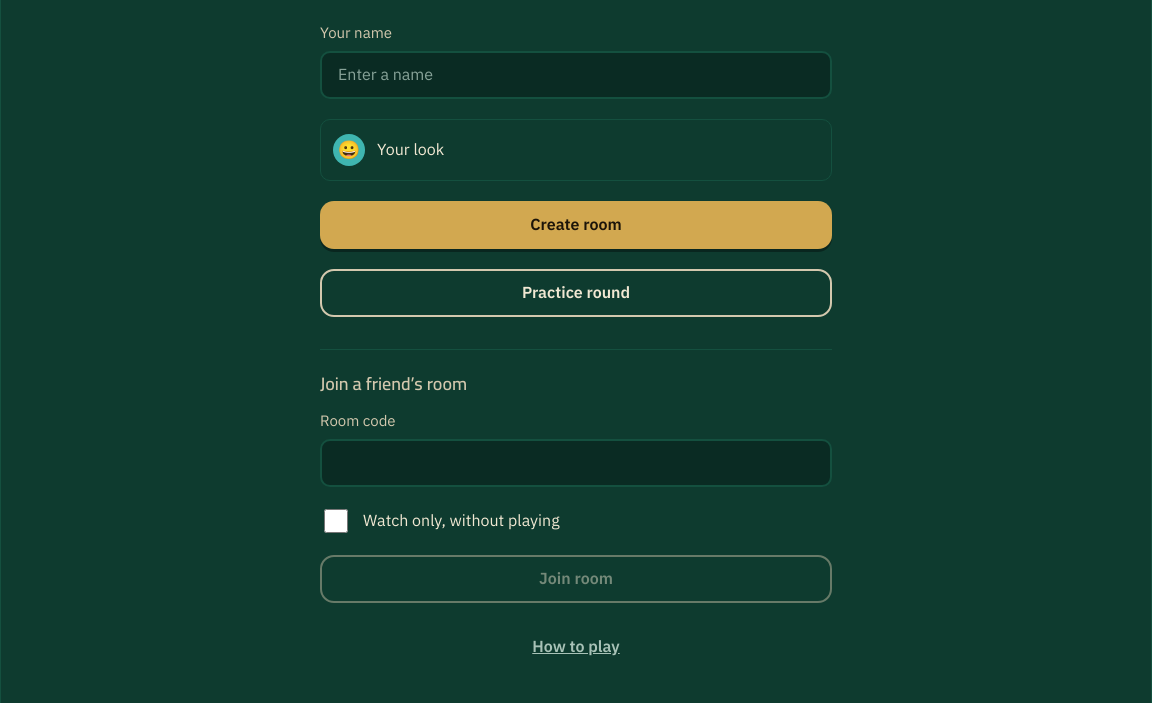
Scenario: tutorial › closes with the Escape key and starts again from step one
The image size is (1152, 703).
(page scrolled)
Click the button "How to play".
click(576, 647)  # box [320,623,832,671]
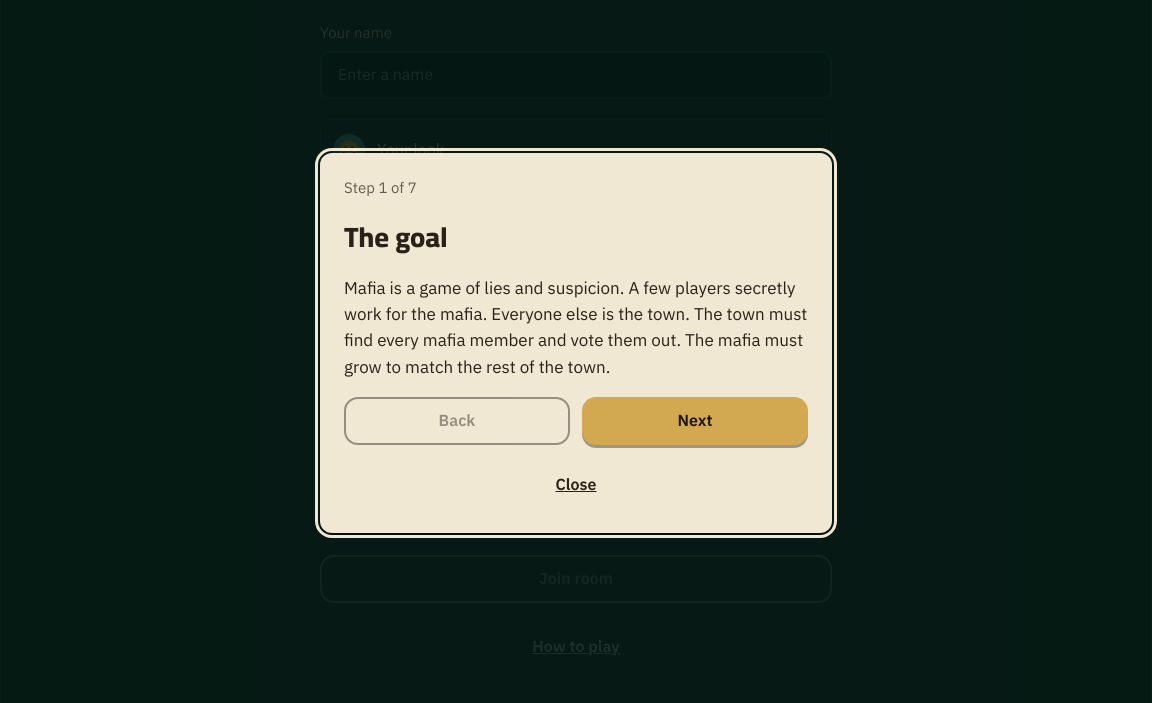
Click the button "Next".
click(695, 421)  # box [582,397,808,445]
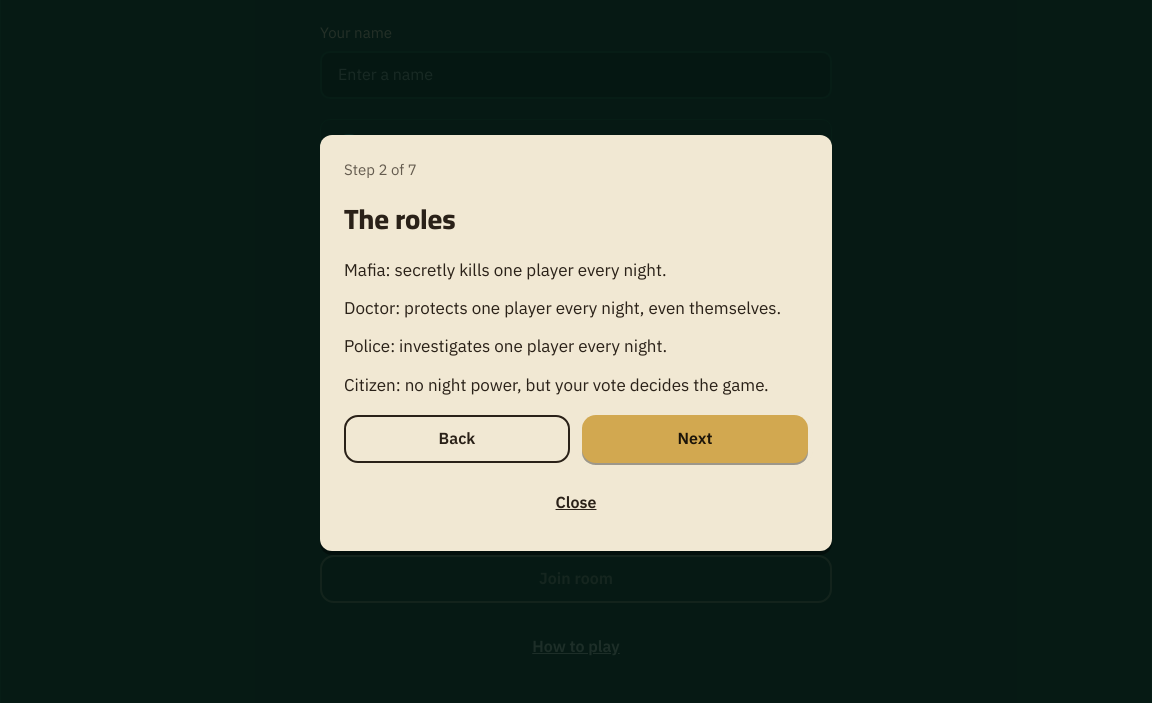
Press Escape
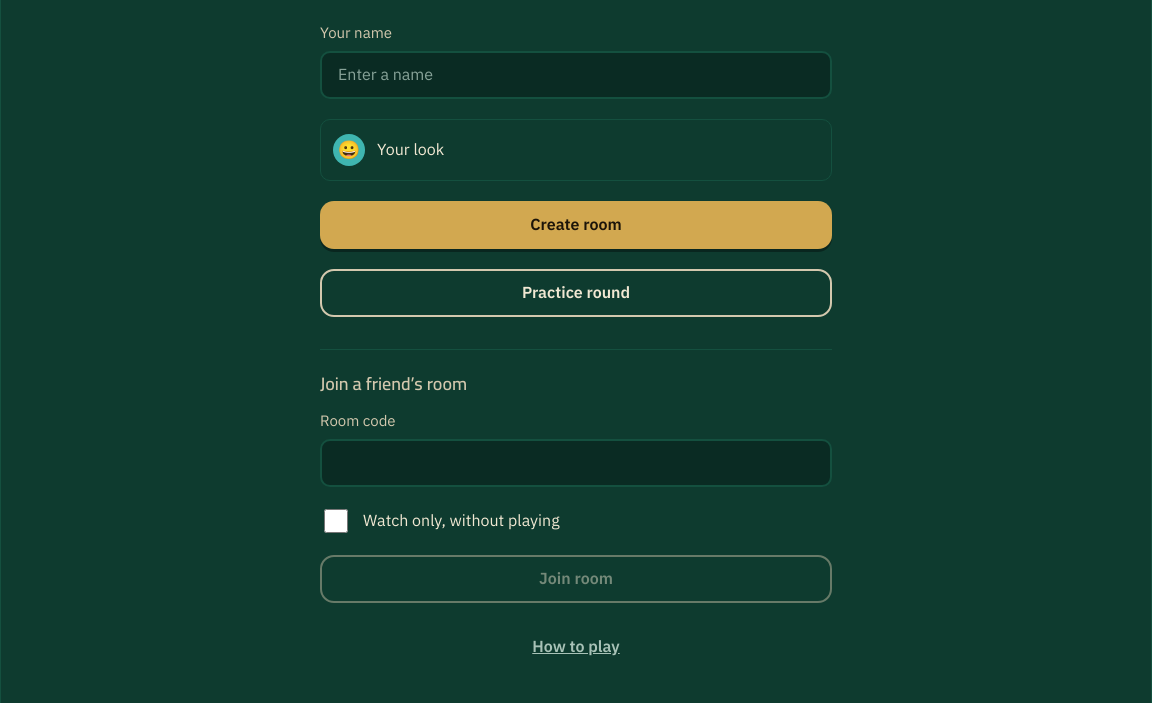
Result: the dialog is gone
Click the button "How to play".
click(576, 647)  # box [320,623,832,671]
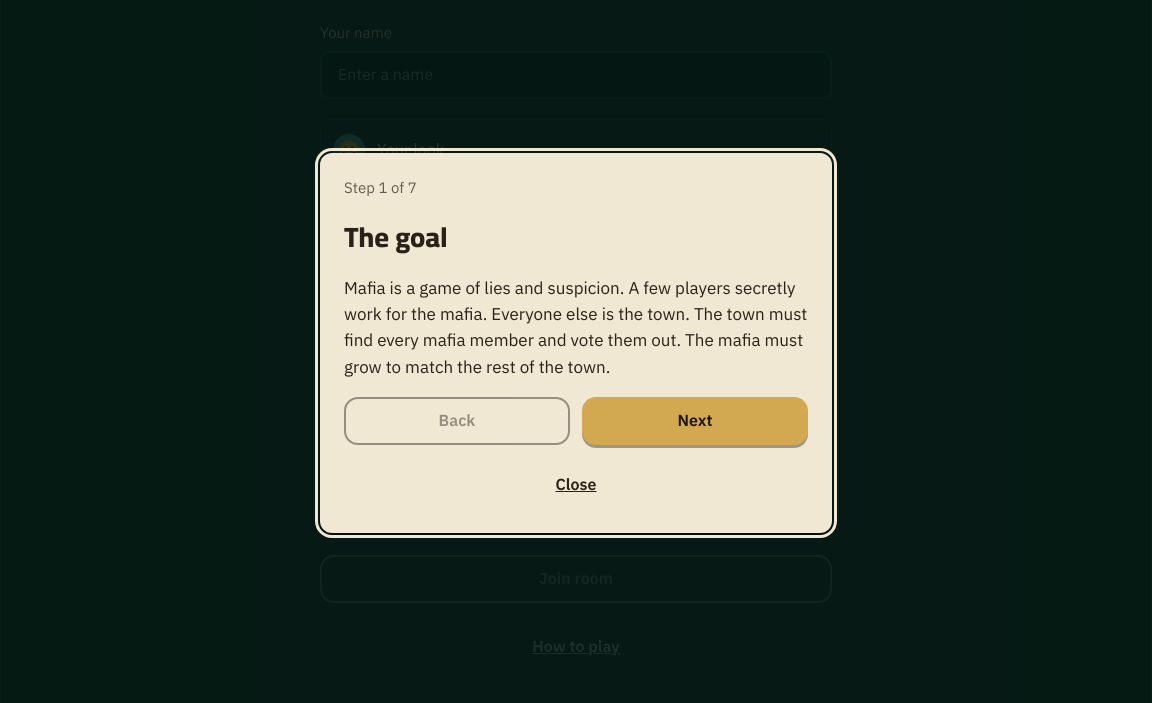
Result: the dialog shows "Step 1 of 7" at [344,177,417,199]
